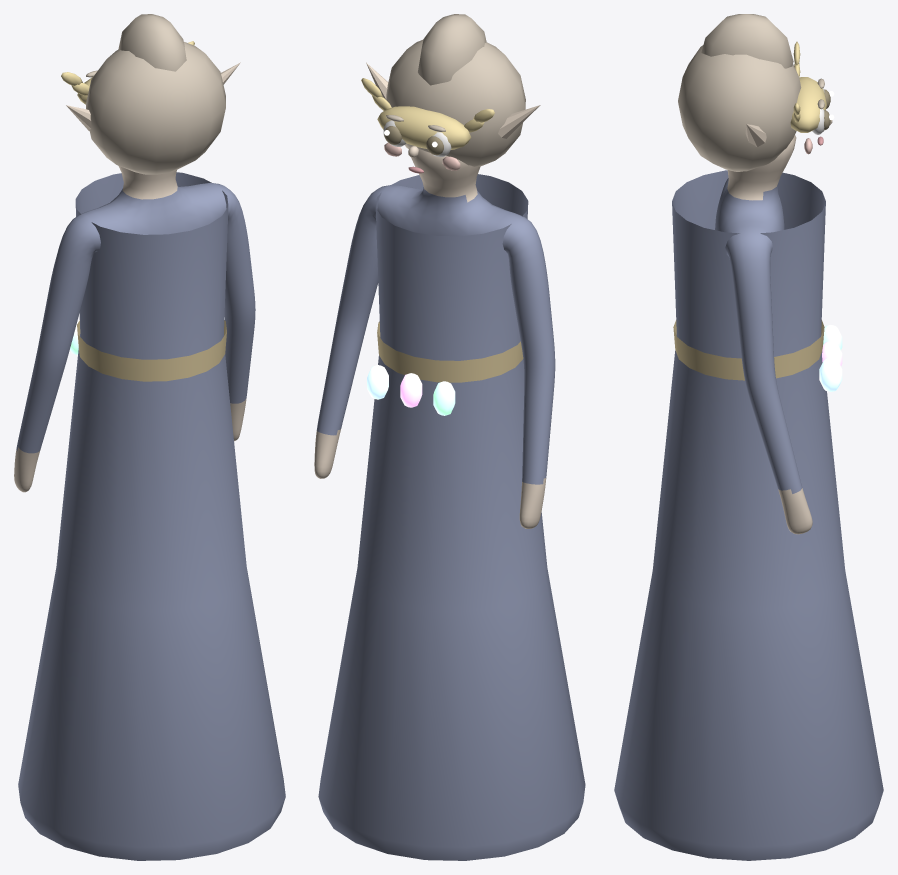
File: potion_maker.gltf
3 views of the same model, side by side, from view 1: azimuth 30°, elevation 25°; view 2: azimuth 150°, elevation 25°; view 3: azimuth 270°, elevation 25° (orthographic).
Visible parts, largest first — view 1: potion_maker; view 2: potion_maker; view 3: potion_maker.
Part boxes in pixels (x1,y1,x2,y2): potion_maker: (14, 14, 285, 860); potion_maker: (314, 14, 585, 860); potion_maker: (614, 14, 883, 860).
Bounding box in the file's own units: 0.4978 × 1.61 × 0.4978.
